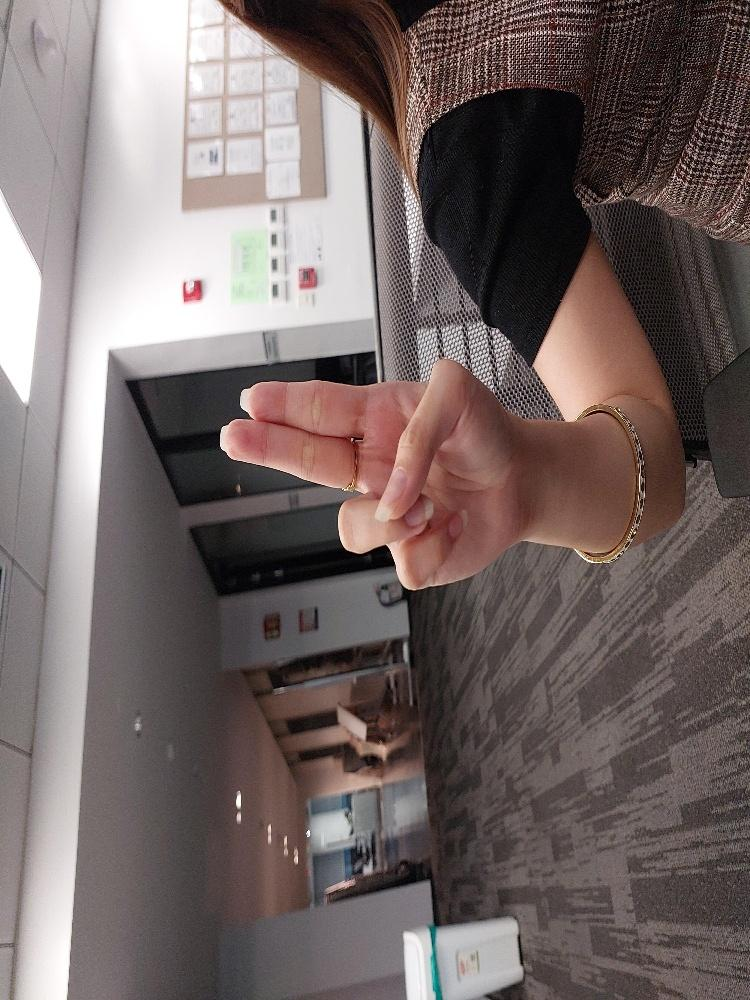u: (303, 285, 484, 700)
